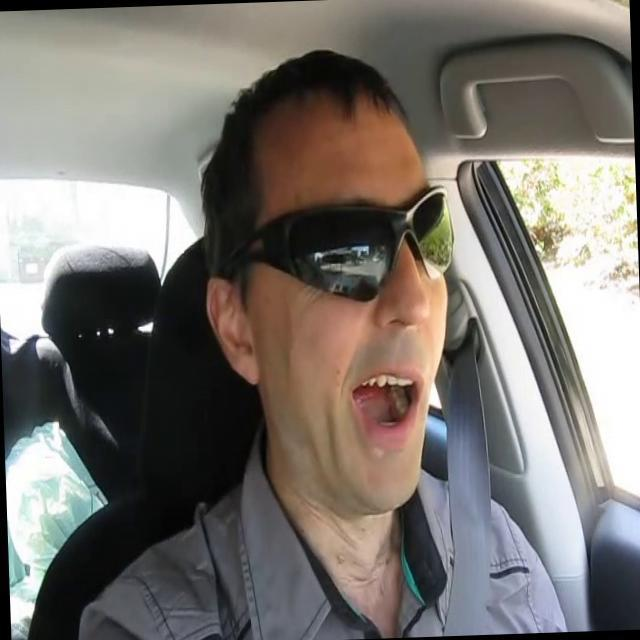open-mouth: (349, 370, 421, 441)
